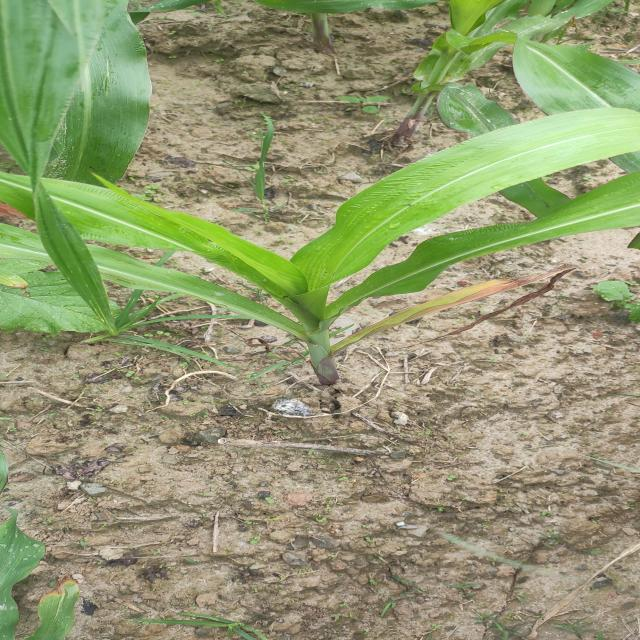maize: (31, 176, 573, 438), (295, 8, 640, 142), (0, 6, 184, 149), (0, 507, 191, 624)
weed: (586, 277, 640, 320)
